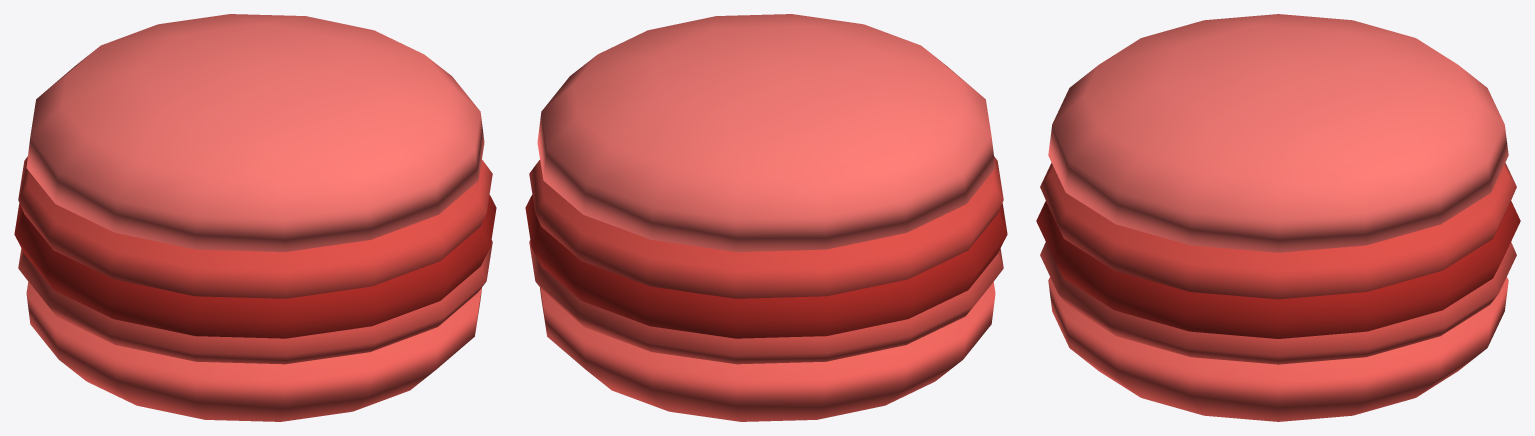
File: Cookie_07.glb
The picture shows the model from 3 angles, left to right: view 1: azimuth 30°, elevation 25°; view 2: azimuth 150°, elevation 25°; view 3: azimuth 270°, elevation 25°; orthographic projection.
Parts seen in each view (by area): view 1: Cookie_07; view 2: Cookie_07; view 3: Cookie_07.
Part boxes in pixels (box(x1,y1,x2,y2)): Cookie_07: box(14, 14, 496, 421); Cookie_07: box(525, 14, 1007, 421); Cookie_07: box(1036, 14, 1520, 421).
Bounding box in the file's own units: 2.05 × 1.44 × 2.05.
Materials: 1 (1 with a texture image).
